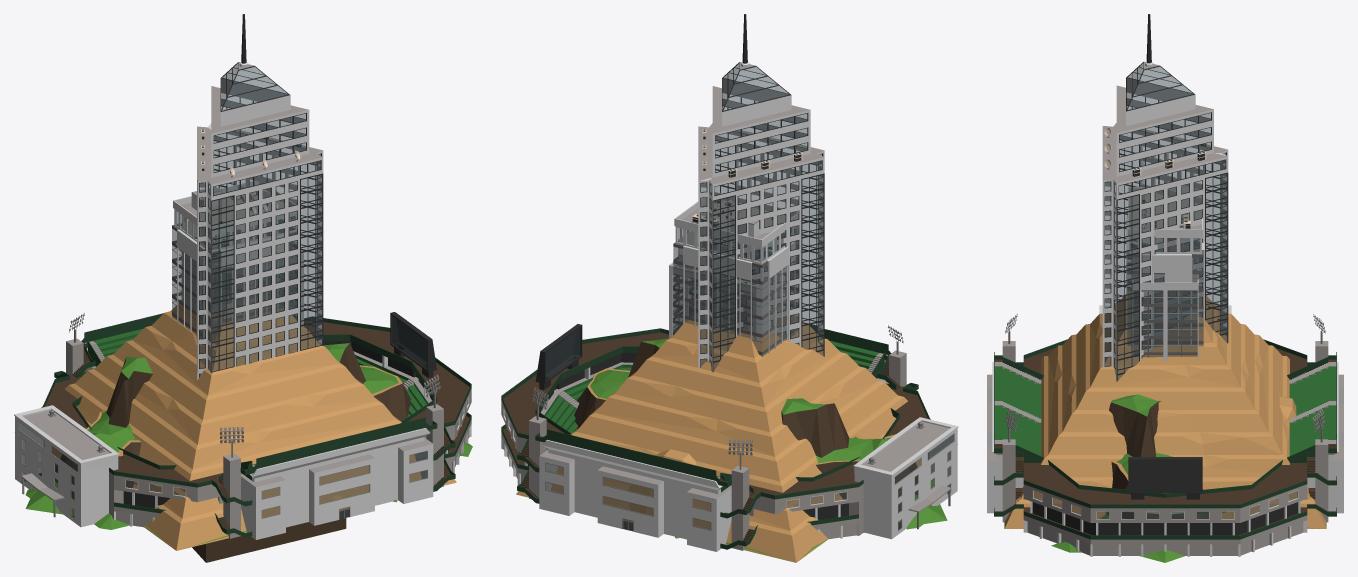
The model's file is town.glb.
3 views of the same model, side by side, from view 1: azimuth 30°, elevation 25°; view 2: azimuth 150°, elevation 25°; view 3: azimuth 270°, elevation 25° (orthographic).
Parts seen in each view (by area): view 1: building-stadium, pyramid, building-skyscraper, building-office-tall, mountains, tile-hill, building-office; view 2: building-stadium, pyramid, building-skyscraper, building-office-tall, mountains, building-office, sphinx; view 3: building-stadium, pyramid, building-skyscraper, building-office-tall, building-office, mountains.
Part boxes in pixels (x1,y1,x2,y2): building-stadium: [14, 312, 471, 539]; pyramid: [14, 296, 456, 550]; building-skyscraper: [197, 14, 323, 380]; building-office-tall: [172, 181, 297, 342]; mountains: [25, 343, 472, 529]; tile-hill: [192, 518, 346, 562]; building-office: [183, 225, 303, 326]; building-stadium: [501, 281, 958, 551]; pyramid: [516, 307, 957, 562]; building-skyscraper: [698, 14, 824, 372]; building-office-tall: [673, 177, 798, 356]; mountains: [574, 338, 947, 538]; building-office: [669, 242, 772, 341]; sphinx: [628, 449, 700, 515]; building-stadium: [987, 305, 1343, 556]; pyramid: [1004, 292, 1326, 528]; building-skyscraper: [1102, 14, 1228, 381]; building-office-tall: [1126, 160, 1204, 349]; building-office: [1132, 243, 1198, 360]; mountains: [1051, 394, 1208, 562].
Size of the model in its own units: 90 by 104 by 66.48.
